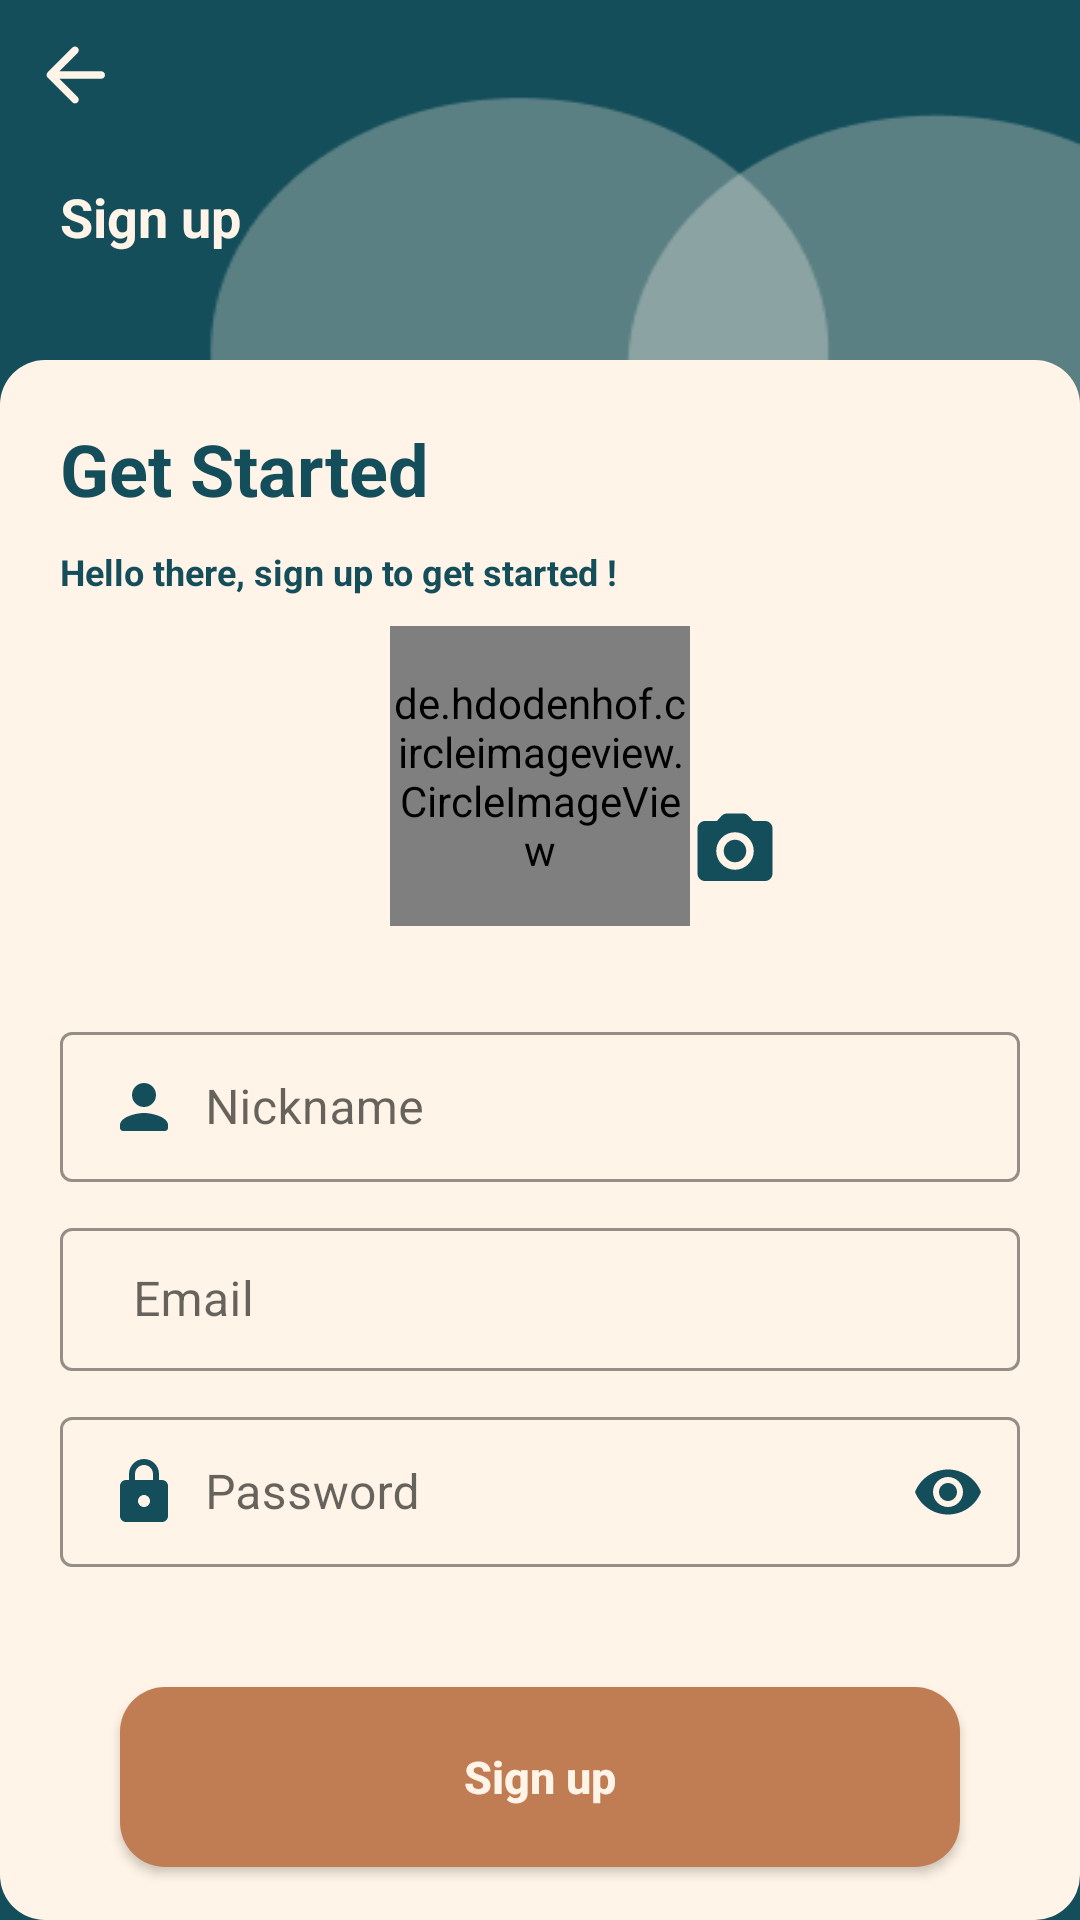

Where to tap for icons on this 1080px x 1920px app screen, as [x,y]:
back: [75,75]
camera: [735,847]
